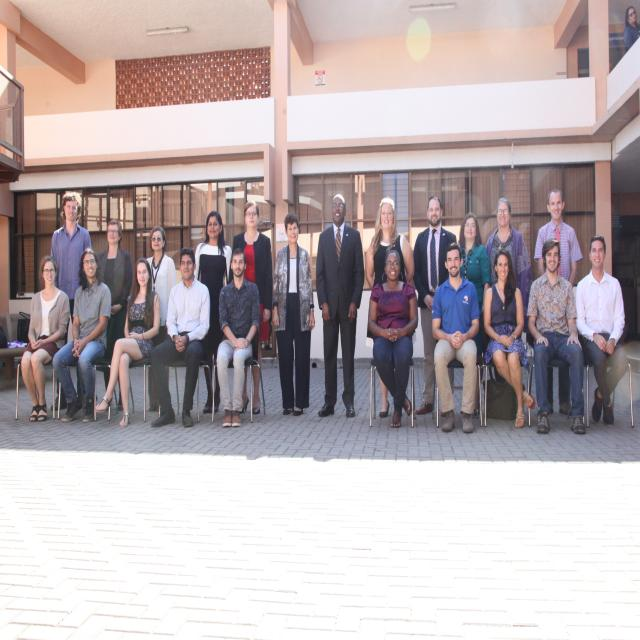body: (526, 235, 588, 440), (94, 254, 162, 429), (315, 192, 367, 420), (364, 194, 416, 420), (149, 244, 212, 430), (50, 246, 113, 424), (48, 187, 94, 415), (226, 198, 274, 416), (574, 234, 628, 427), (429, 241, 482, 435), (535, 188, 580, 415), (413, 195, 458, 416), (482, 247, 536, 428), (367, 248, 420, 432), (271, 210, 317, 420), (485, 197, 533, 384), (216, 247, 262, 429), (20, 255, 70, 422), (194, 210, 233, 414), (95, 218, 133, 412), (458, 212, 492, 416), (146, 225, 177, 413)
